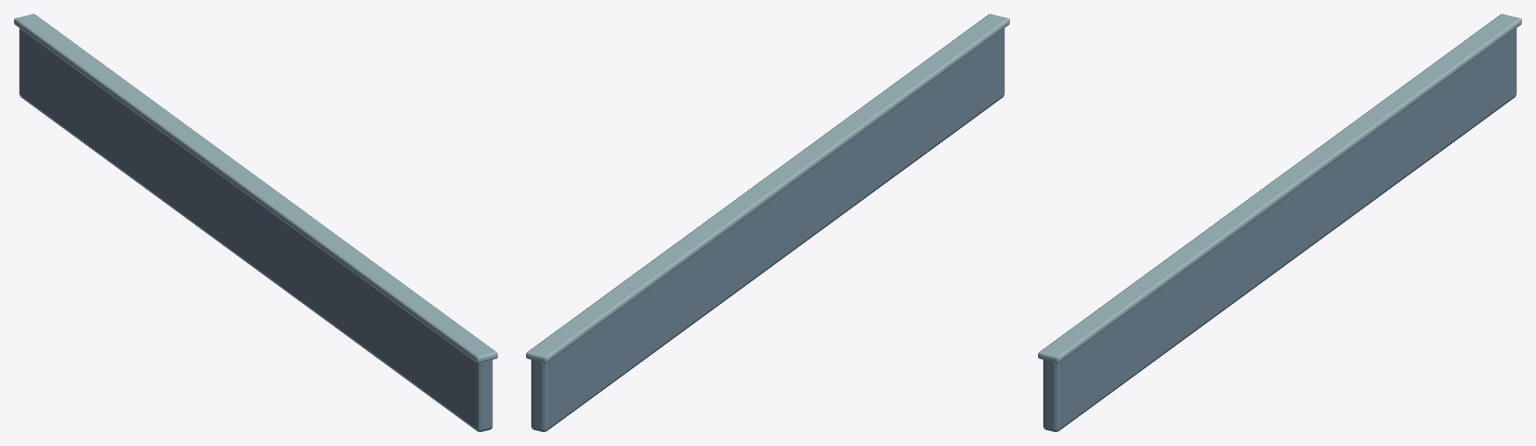
3 views of the same model, side by side, from view 1: azimuth 30°, elevation 25°; view 2: azimuth 150°, elevation 25°; view 3: azimuth 330°, elevation 25° (orthographic).
Visible parts, largest first — view 1: ai_export; view 2: ai_export; view 3: ai_export.
Part boxes in pixels (x1=…): ai_export: x1=14, y1=14, x2=497, y2=431; ai_export: x1=526, y1=14, x2=1009, y2=431; ai_export: x1=1038, y1=14, x2=1521, y2=431.
Bounding box in the file's own units: 0.27 × 0.94 × 10.07.
